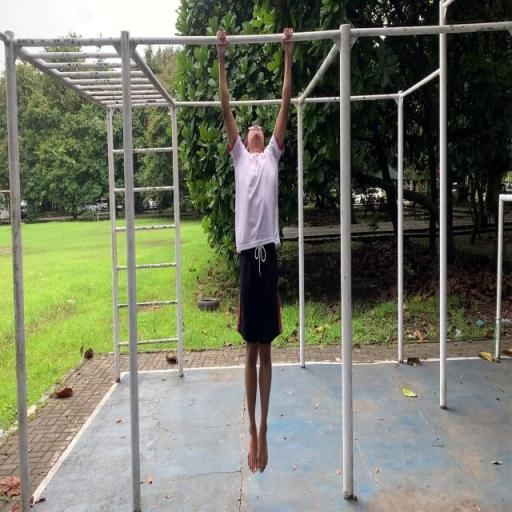Normal_BrenchPress: (215, 26, 295, 476)
